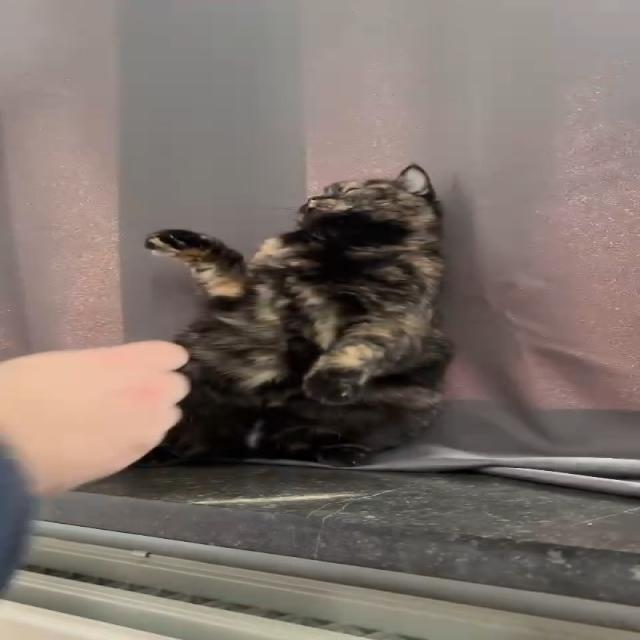authorized: (138, 162, 454, 468)
